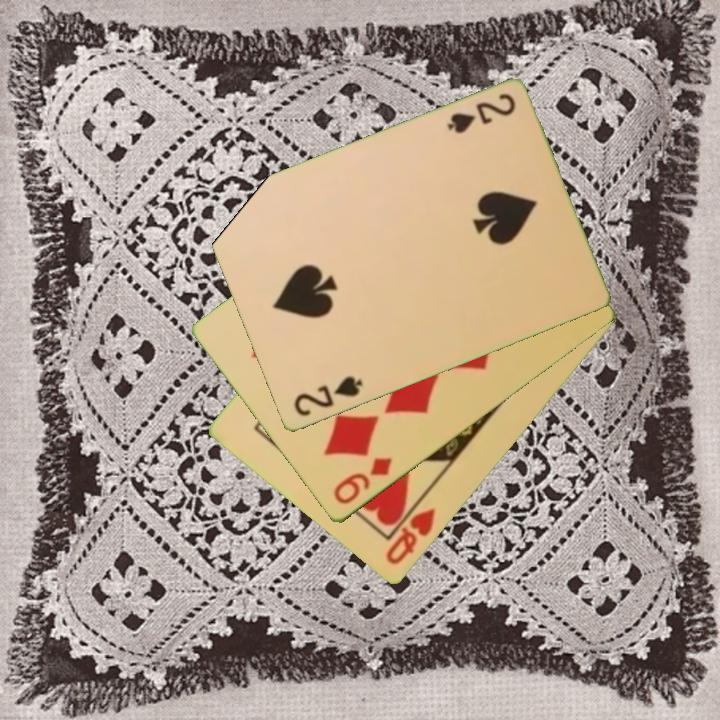2s: (289, 373, 366, 420), (443, 90, 518, 138)
9d: (329, 454, 396, 508)
Qh: (382, 493, 439, 568)
